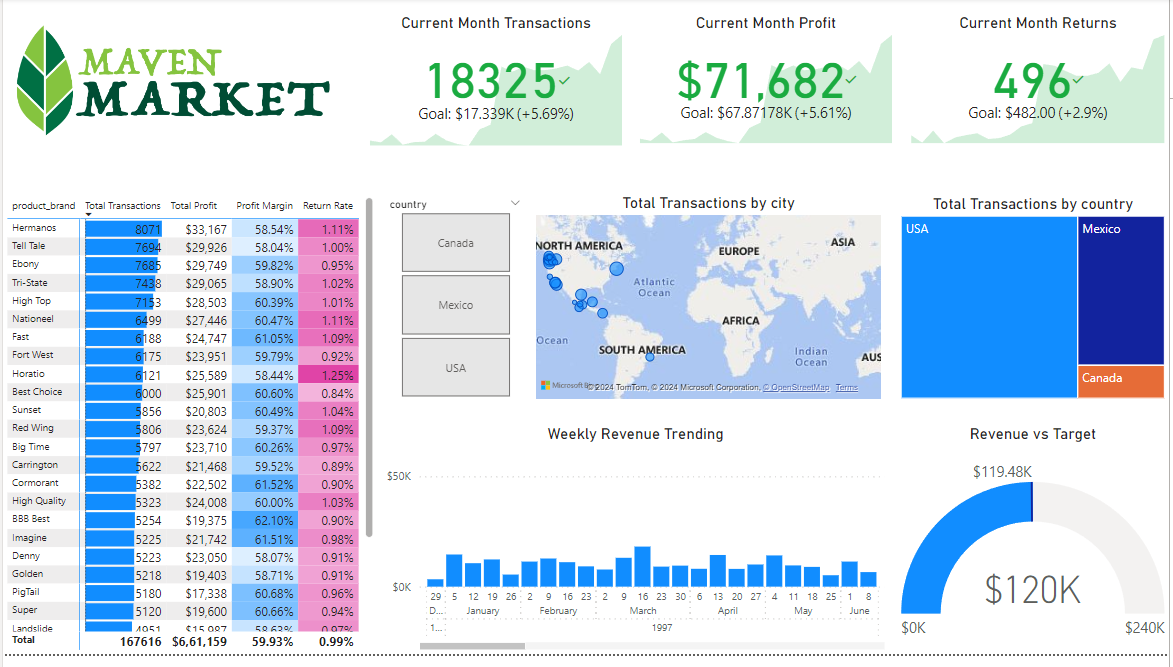

This screenshot's page, from the dashboard's own definition file:
{"tool":"powerbi","page":{"name":"Top Line Performance","canvas":[1280,720],"ordinal":0},"visuals":[{"type":"image","box":[0,15.9,370.5,148],"z":0},{"type":"pivotTable","fields":{"Rows":["Products.product_brand"],"Values":["Transaction_data.Total Transactions","Transaction_data.Total Profit","Transaction_data.Profit Margin","Returns_Data.Return Rate"]},"box":[0,214.1,411.7,506.3],"z":1000},{"type":"kpi","title":"Current Month Transactions","fields":{"Indicator":["Transaction_data.Total Transactions"],"TrendLine":["Calendar.Start of Month"],"Goal":["Transaction_data.Last Month Transactions"]},"box":[397.9,16.5,286.8,150.9],"z":2000},{"type":"kpi","title":"Current Month Returns","fields":{"Indicator":["Returns_Data.Total Returns"],"TrendLine":["Calendar.Start of Month"],"Goal":["Returns_Data.Last Month Returns"]},"box":[992.1,16.5,288.2,148.2],"z":3000},{"type":"kpi","title":"Current Month Profit","fields":{"Indicator":["Transaction_data.Total Profit"],"TrendLine":["Calendar.Start of Month"],"Goal":["Transaction_data.Last Month Profit"]},"box":[694.3,16.5,286.8,148.2],"z":4000},{"type":"treemap","fields":{"Values":["Transaction_data.Total Transactions"],"Group":["Stores.country","Stores.state","Stores.city"]},"box":[981.1,215.4,299.1,229.2],"z":5000},{"type":"columnChart","title":"Weekly Revenue Trending","fields":{"Y":["Transaction_data.Total Revenue"],"Category":["Calendar.Start of Week.Variation.Date Hierarchy.Year","Calendar.Start of Week.Variation.Date Hierarchy.Month","Calendar.Start of Week.Variation.Date Hierarchy.Day"]},"box":[415.8,467.9,557.1,252.5],"z":6000},{"type":"gauge","title":"Revenue vs Target","fields":{"Y":["Transaction_data.Total Revenue"],"TargetValue":["Transaction_data.Revenue Target"]},"box":[981.1,467.9,299.1,252.5],"z":7000},{"type":"map","fields":{"Category":["Stores.city"],"Size":["Transaction_data.Total Transactions"]},"box":[580.4,214.1,388.3,230.5],"z":8000},{"type":"slicer","fields":{"Values":["Stores.country"]},"box":[412.1,214,168.8,229.9],"z":9000}]}

Visuals, with their boxes in screenshot pixels (x1, y1, x2, y2), scaled from the page's 1280x720 canvas onto the 1173x667 screenshot:
image: bbox=[0, 15, 340, 152]
pivotTable - Products.product_brand x Transaction_data.Total Transactions: bbox=[0, 198, 377, 666]
"Current Month Transactions" kpi: bbox=[365, 15, 627, 155]
"Current Month Returns" kpi: bbox=[909, 15, 1172, 153]
"Current Month Profit" kpi: bbox=[636, 15, 899, 153]
treemap - Transaction_data.Total Transactions x Stores.country: bbox=[899, 200, 1172, 412]
"Weekly Revenue Trending" columnChart: bbox=[381, 433, 892, 666]
"Revenue vs Target" gauge: bbox=[899, 433, 1172, 666]
map - Stores.city x Transaction_data.Total Transactions: bbox=[532, 198, 888, 412]
slicer - Stores.country: bbox=[378, 198, 532, 411]
